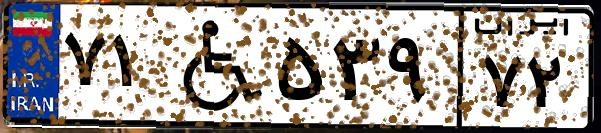1: (110, 28, 158, 98)
2: (525, 38, 570, 115)
3: (330, 28, 385, 110)
5: (270, 28, 330, 110)
7: (57, 26, 110, 100), (475, 38, 525, 113)
9: (385, 28, 445, 110)
ژ (معلولین و جانبازان): (158, 12, 270, 120)
